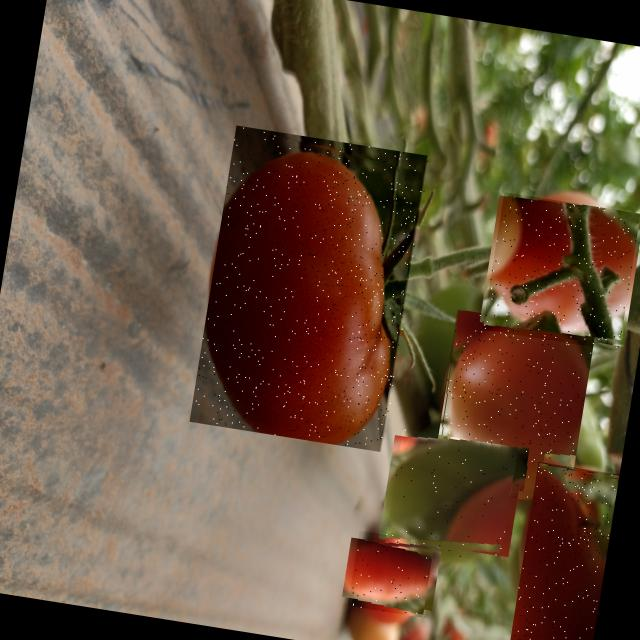Ripe Tomato: (190, 125, 430, 452), (430, 310, 596, 508), (482, 192, 640, 351), (506, 462, 619, 640), (348, 531, 434, 618)
Unripe Tomato: (384, 429, 518, 564)
